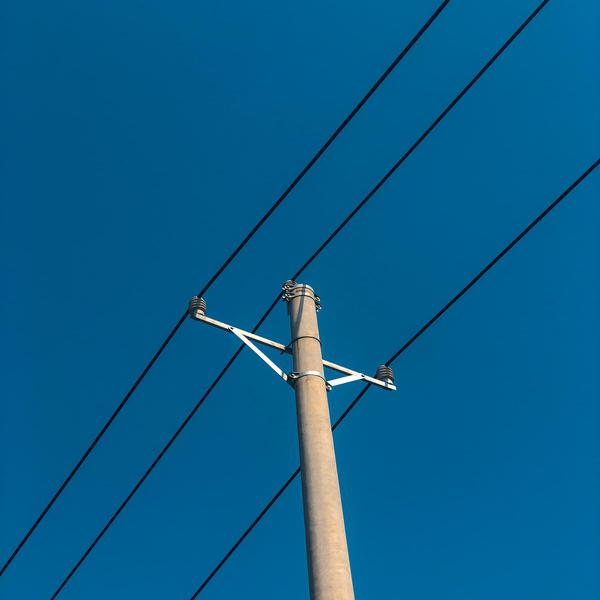utility_pole: (176, 260, 411, 455)
